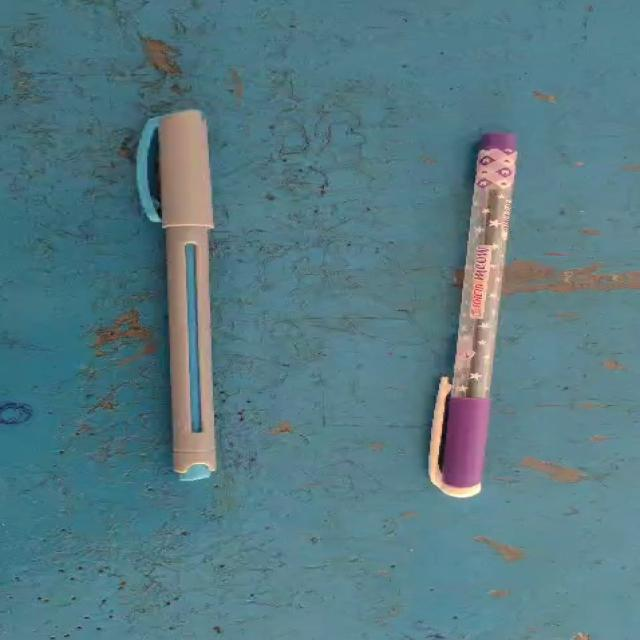pen: (74, 63, 332, 515), (412, 84, 552, 538)
